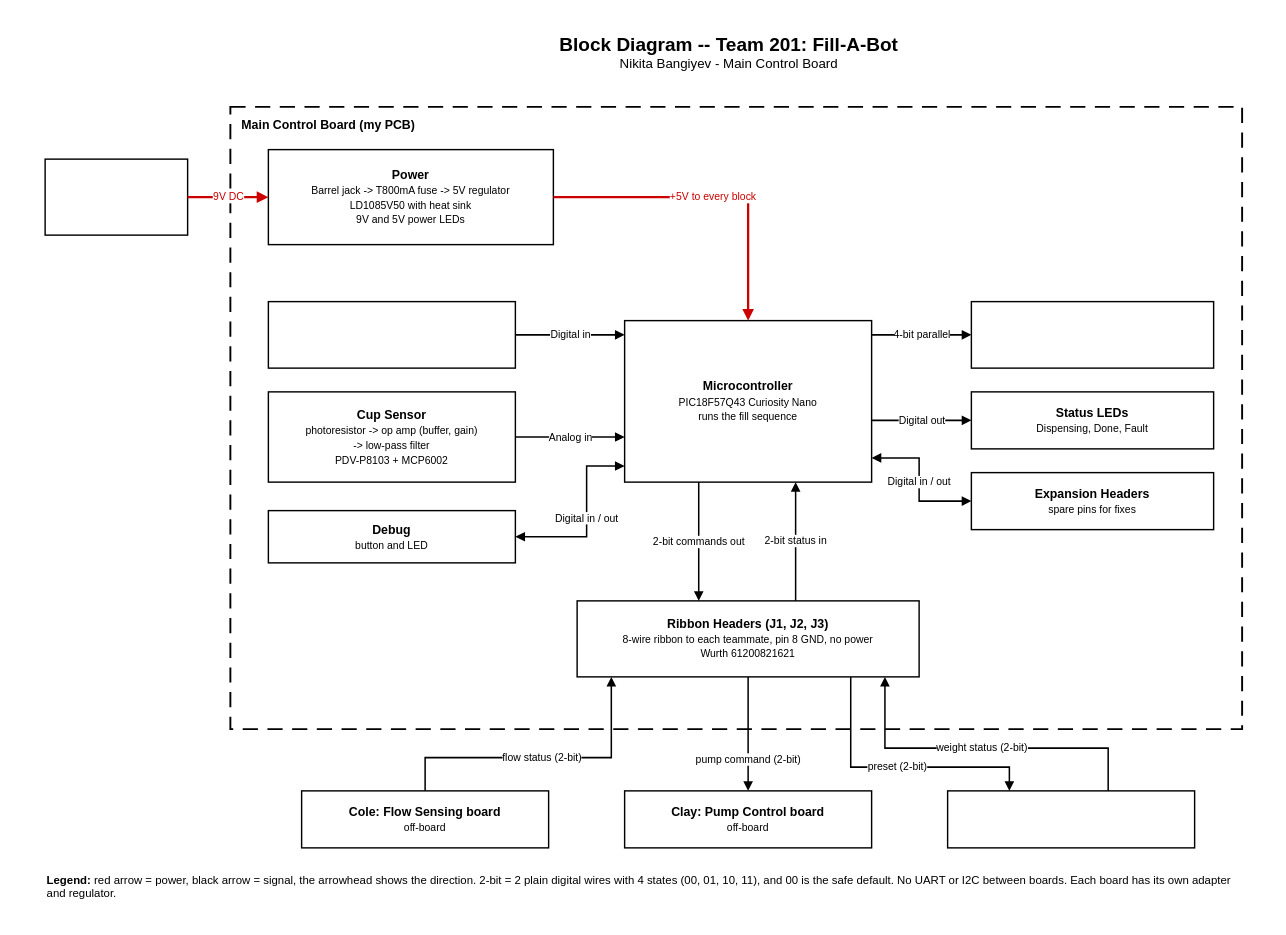
The diagram is 1286 pixels wide and 935 high, and some of its shapes have lost their labels. The shapes that lost their labels are listed below. From the top down, each one's centre as x and y in pixels, then its label:
the point at 116,196: Wall adapter 9V 2A, off-board Triad WSU090-2000
the point at 391,334: Buttons UP, DOWN, START, STOP pull-ups and RC debounce
the point at 1092,334: 16x2 LCD shows the amount and status NHD-0216K1Z-FL-YBW
the point at 1070,819: Troy: Liquid Amount board off-board
